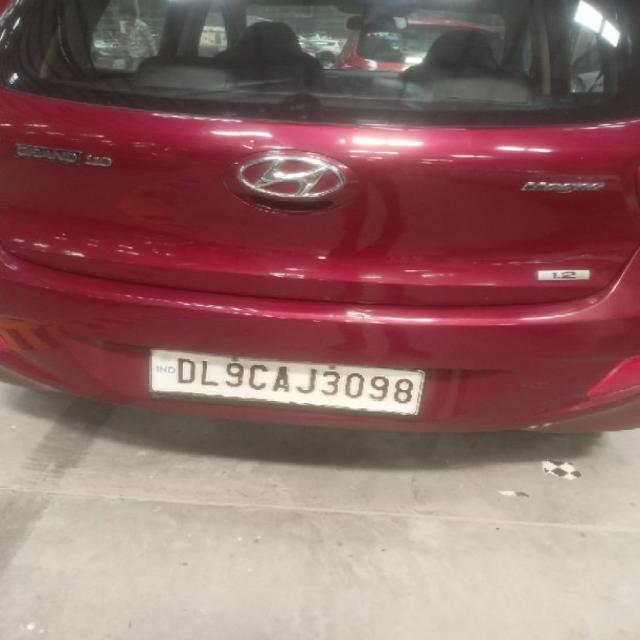license_plate: (147, 348, 426, 420)
